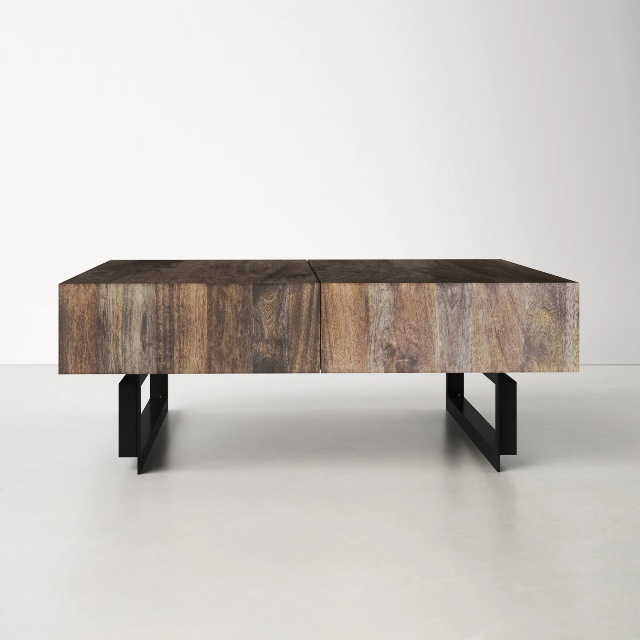obstacle: (59, 260, 578, 472)
